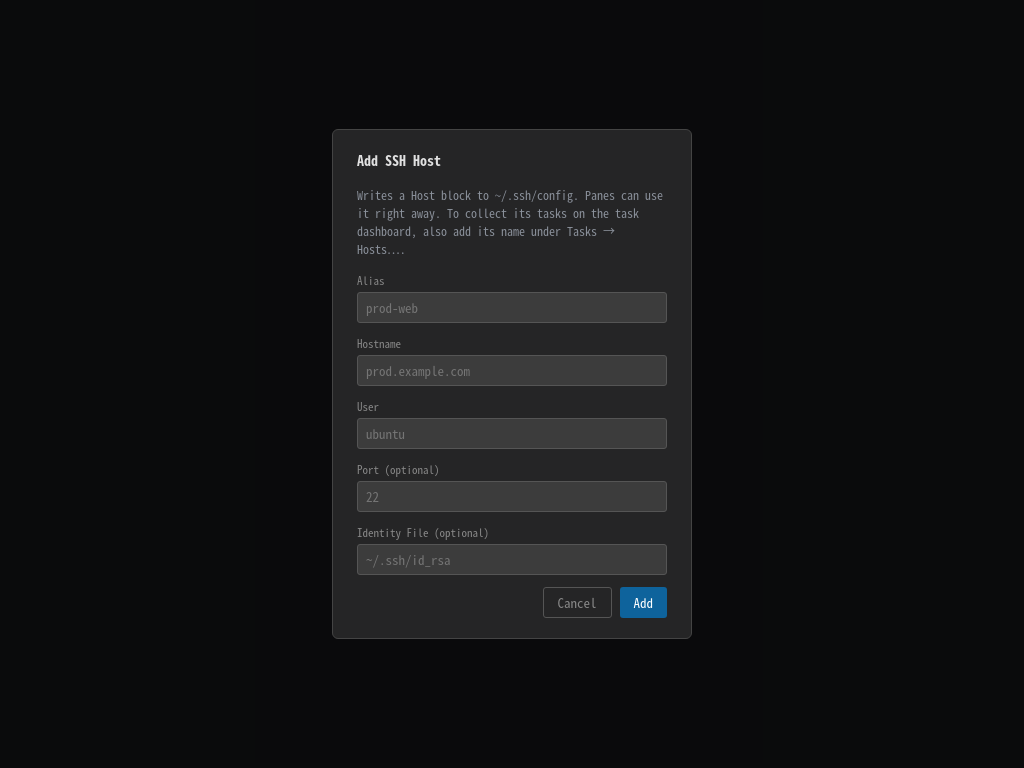
Test: AddSSHHostDialog › validates user is required
The width and height of the screenshot is (1024, 768).
Type "myhost" into the field named "Name" at (512, 308), box 357,292 -> 667,323
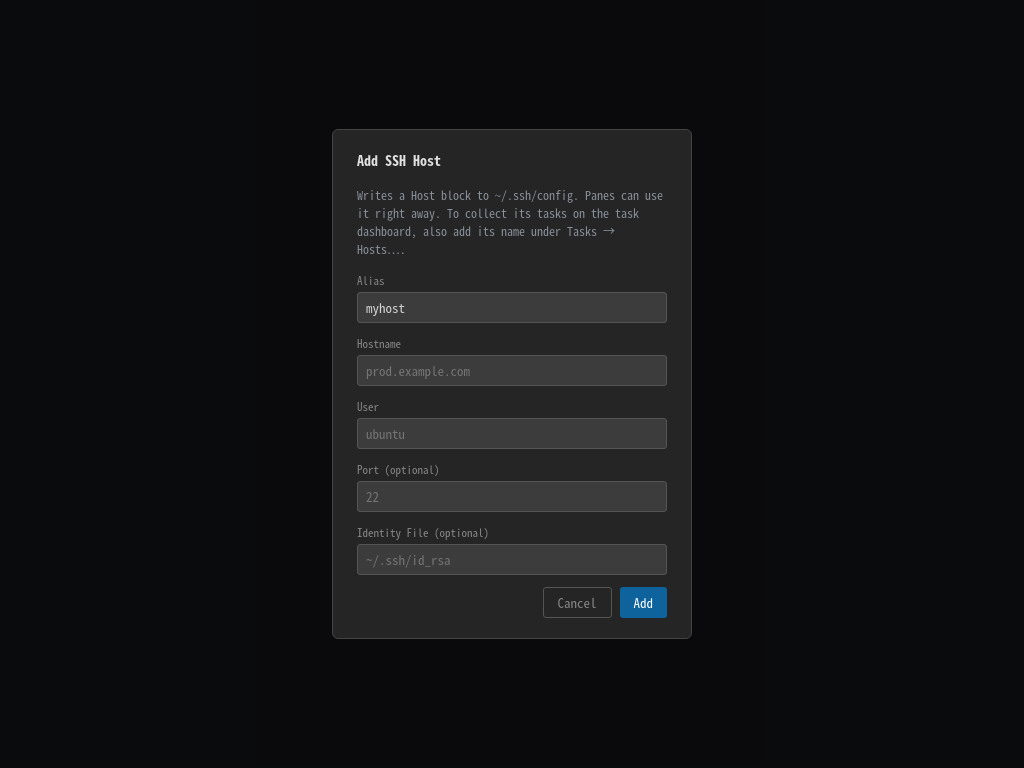
Type "myhost.example.com" into the field labelled "Hostname" at (512, 370), box 357,355 -> 667,386
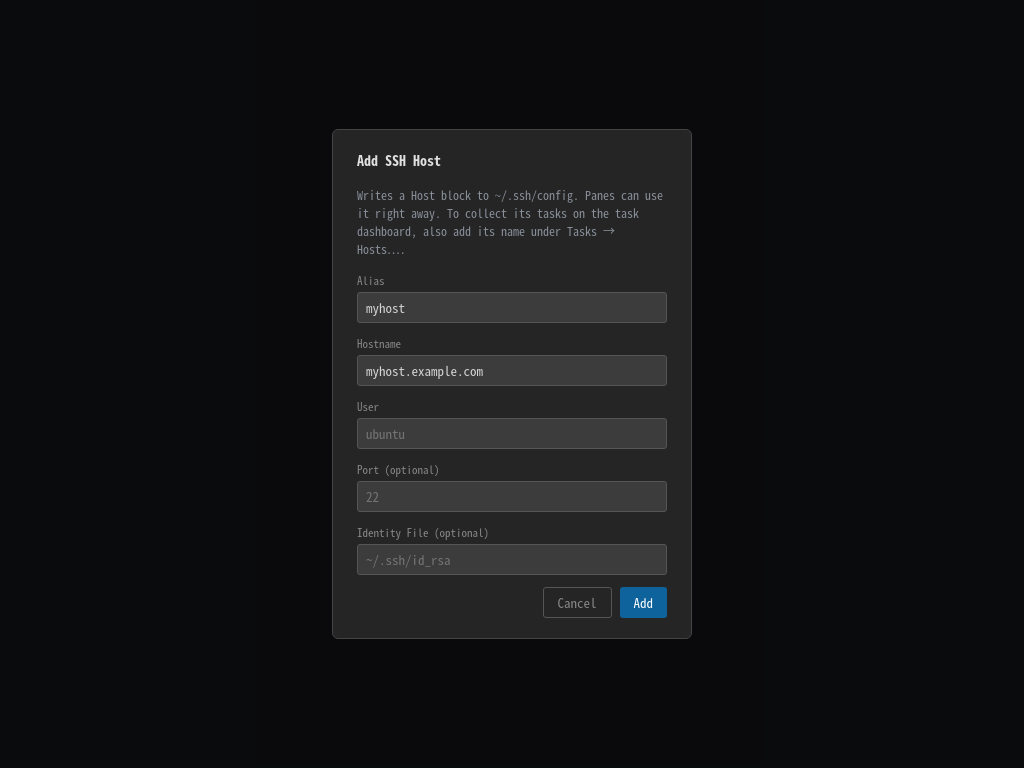
Click the button "Add" at (643, 602), box 620,587 -> 667,618
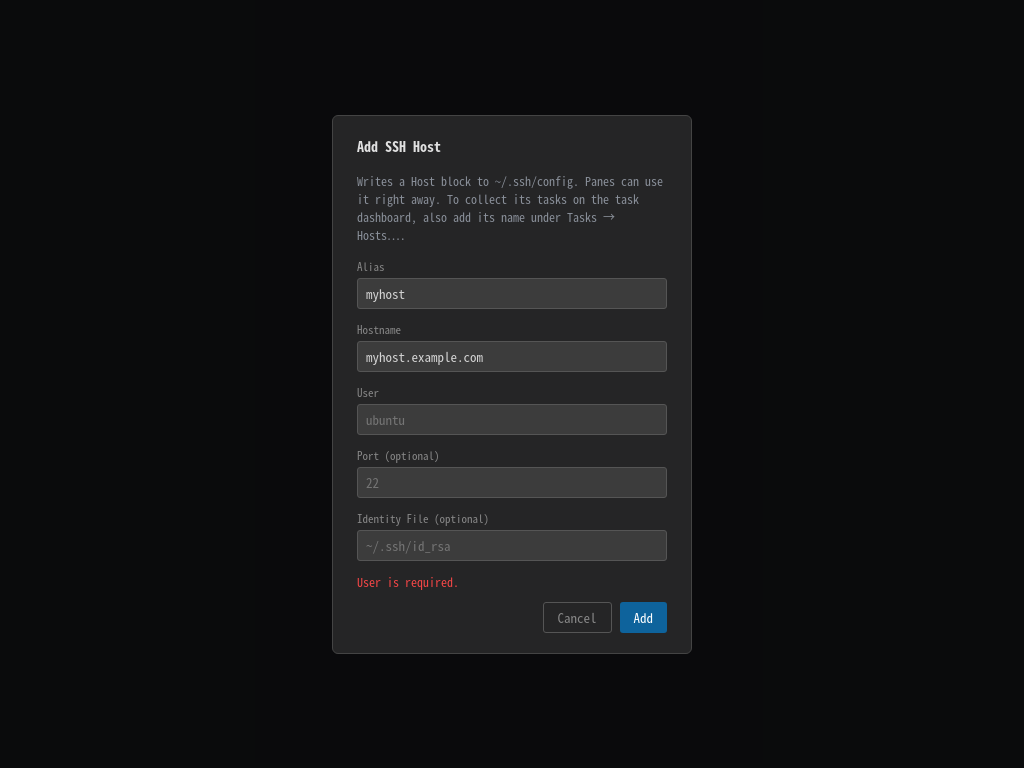
expect the text "User is required." is shown: met, box 357,572 -> 459,590
